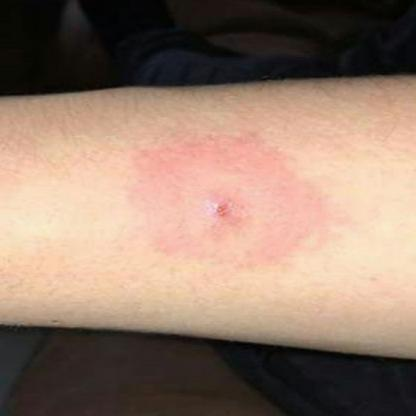Tick: (119, 127, 330, 273)
